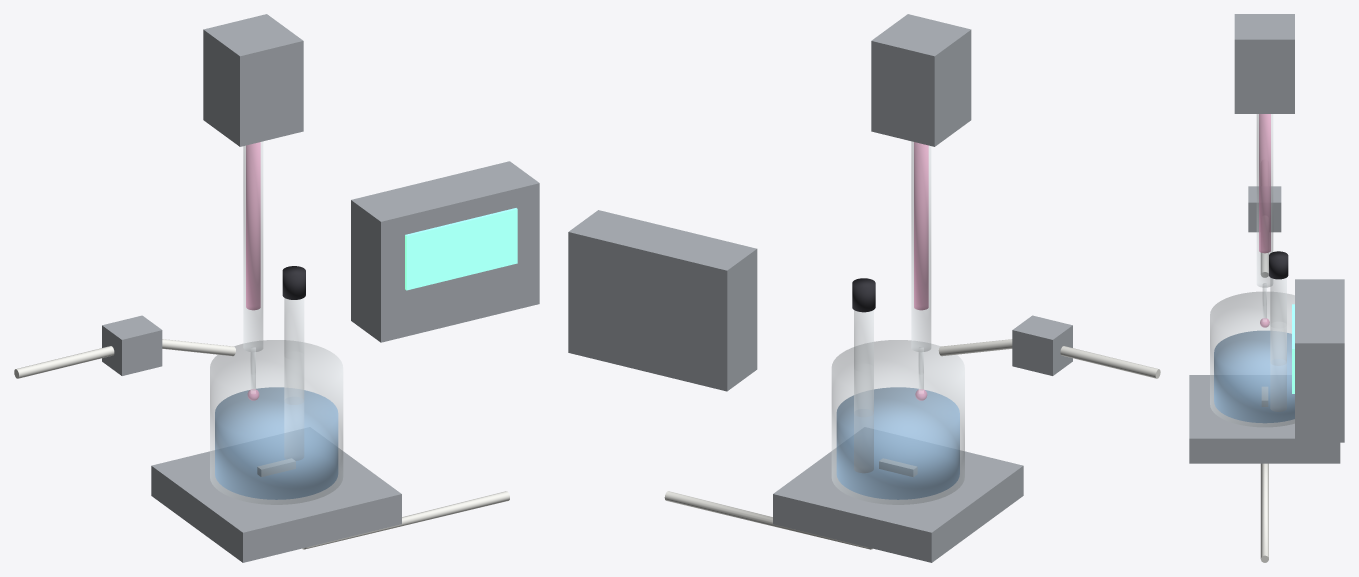
The model's file is titration.glb.
3 renders of one model, left to right at view 1: azimuth 30°, elevation 25°; view 2: azimuth 150°, elevation 25°; view 3: azimuth 270°, elevation 25°, orthographic. The views are drawn at different scales.
Parts seen in each view (by area): view 1: 搅拌器底座, 控制器, 滴定杯, 杯内样品, 活塞泵, 控制器_屏, 滴定管, 电极, 计量阀, 滴定管_液, 取样管, 排液管 (+1 smaller); view 2: 控制器, 搅拌器底座, 滴定杯, 杯内样品, 活塞泵, 滴定管, 电极, 计量阀, 滴定管_液, 取样管, 排液管, 电极帽; view 3: 滴定杯, 搅拌器底座, 控制器, 杯内样品, 活塞泵, 滴定管, 电极, 滴定管_液, 计量阀, 排液管, 电极帽, 控制器_屏 (+1 smaller).
Part boxes in pixels (bbox=[...]): 搅拌器底座: bbox=[151, 427, 401, 562]; 控制器: bbox=[351, 161, 539, 342]; 滴定杯: bbox=[210, 340, 342, 504]; 杯内样品: bbox=[215, 387, 338, 499]; 活塞泵: bbox=[203, 14, 303, 146]; 控制器_屏: bbox=[405, 208, 517, 290]; 滴定管: bbox=[243, 141, 262, 351]; 电极: bbox=[284, 298, 303, 460]; 计量阀: bbox=[102, 315, 162, 375]; 滴定管_液: bbox=[246, 142, 260, 310]; 取样管: bbox=[14, 339, 235, 378]; 排液管: bbox=[302, 491, 509, 549]; 控制器: bbox=[568, 210, 757, 391]; 搅拌器底座: bbox=[773, 427, 1023, 562]; 滴定杯: bbox=[832, 340, 964, 504]; 杯内样品: bbox=[836, 387, 959, 499]; 活塞泵: bbox=[871, 14, 971, 146]; 滴定管: bbox=[911, 141, 930, 351]; 电极: bbox=[854, 310, 873, 472]; 计量阀: bbox=[1012, 315, 1072, 375]; 滴定管_液: bbox=[914, 142, 928, 310]; 取样管: bbox=[938, 339, 1160, 378]; 排液管: bbox=[664, 491, 872, 549]; 电极帽: bbox=[852, 278, 875, 312]; 滴定杯: bbox=[1210, 292, 1294, 426]; 搅拌器底座: bbox=[1189, 375, 1340, 463]; 控制器: bbox=[1295, 279, 1344, 442]; 杯内样品: bbox=[1214, 330, 1294, 423]; 活塞泵: bbox=[1234, 14, 1294, 113]; 滴定管: bbox=[1257, 114, 1272, 287]; 电极: bbox=[1270, 278, 1286, 411]; 滴定管_液: bbox=[1259, 114, 1270, 253]; 计量阀: bbox=[1248, 186, 1281, 232]; 排液管: bbox=[1260, 463, 1268, 562]; 电极帽: bbox=[1269, 251, 1288, 279]; 控制器_屏: bbox=[1292, 304, 1294, 393].
Bounding box in the file's own units: 1.88 × 1.75 × 0.565.
